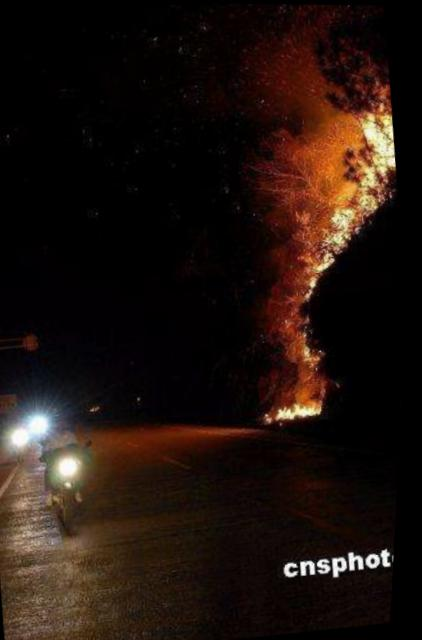fire: (242, 89, 416, 446)
